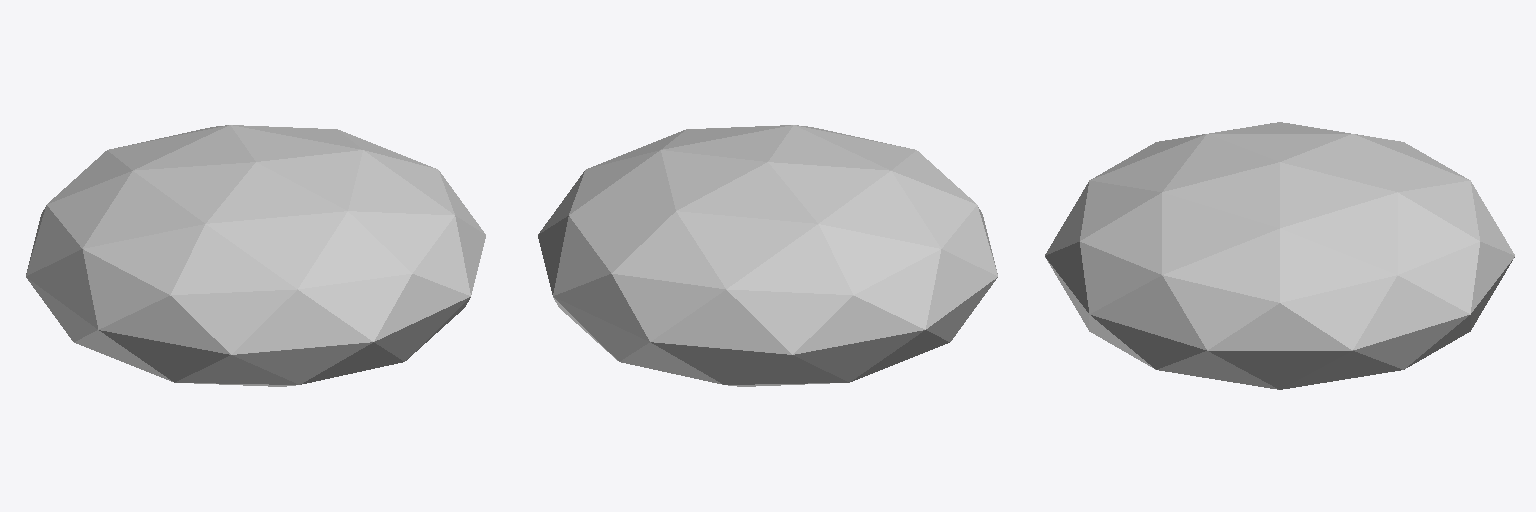
The model's file is ASJR_simple.obj.
The picture shows the model from 3 angles: view 1: azimuth 30°, elevation 25°; view 2: azimuth 150°, elevation 25°; view 3: azimuth 270°, elevation 25°; orthographic projection.
Size of the model in its own units: 0.6719 by 0.3108 by 0.7065.